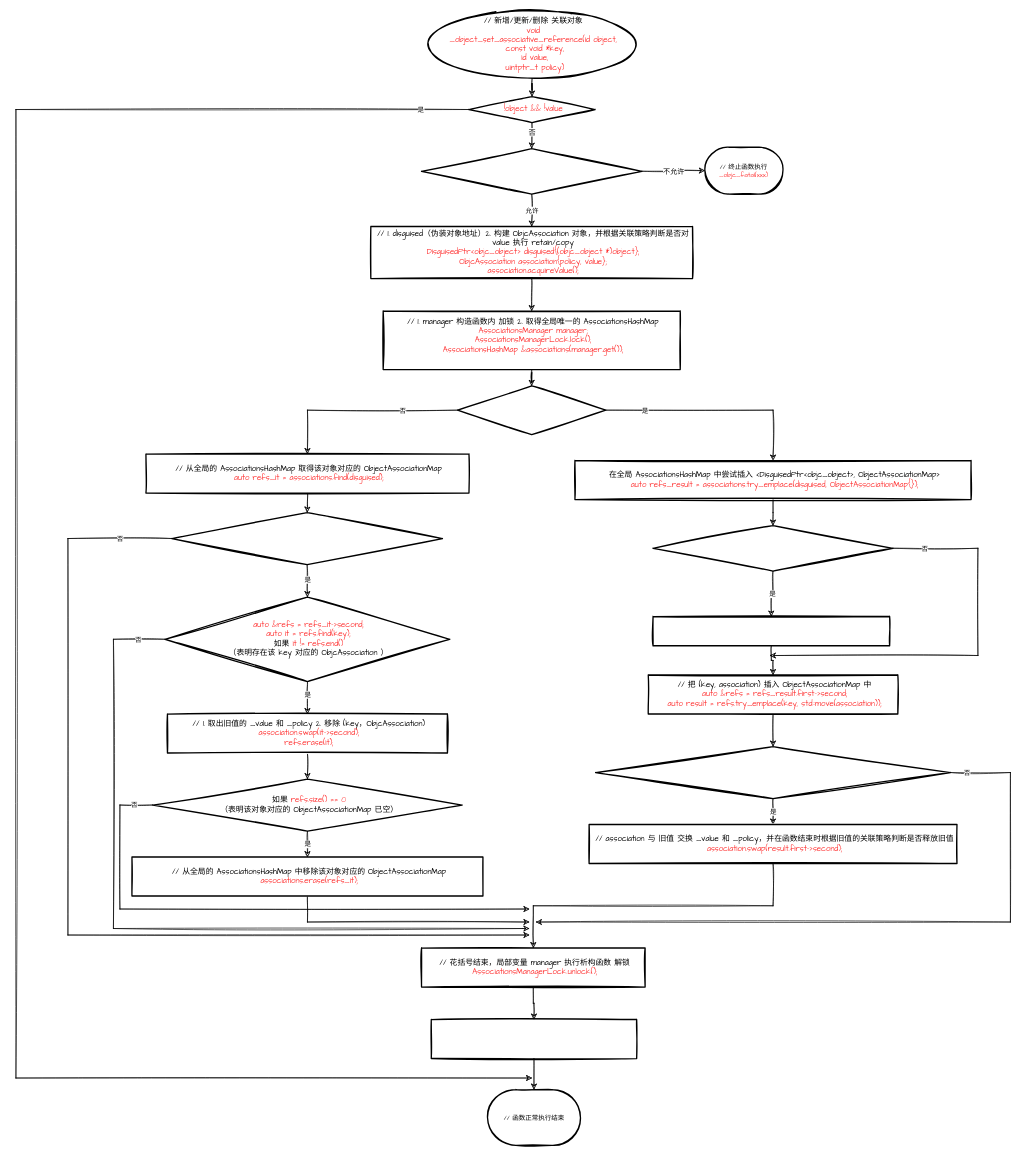
Some shapes in this 1027 by 1157 pixel diagram are drawn without their labels. Each missing label, with the centre of its shape:
// 如果 !result.second == true // 如果为 true 表明 key 之前有对应的 ObjcAssociation 存在: (x=773, y=772)
// 是否允许关联对象 forbidsAssociatedObjects(): (x=531, y=171)
// 根据旧值对应的策略释放旧值 association.releaseHeldValue();: (x=533, y=1039)
// 设置 uintptr_t has_assoc : 1; 位，标记该对象存在关联对象 object->setHasAssociatedObjects();: (x=771, y=631)
如果 refs_it != associations.end() （表明该对象存在 ObjectAssociationMap）: (x=307, y=538)
如果 refs_result.second == true （表明第一次给对象创建关联对象）: (x=772, y=548)
如果 value != nil: (x=531, y=410)
